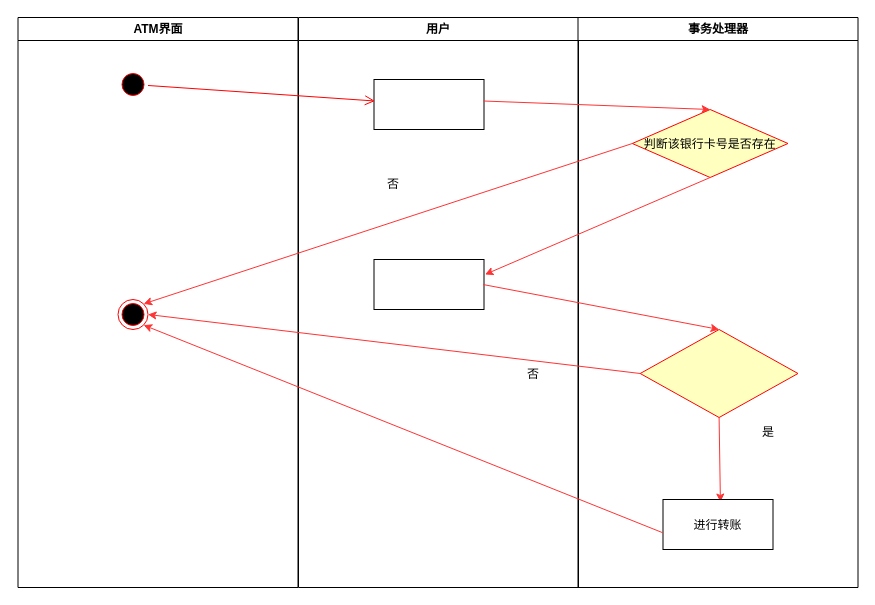
Image size: 875x605. Some labels were removed from this diagram. Here are the shapes that lost their labels. From the top down, the centre of each, then its label:
At [428,104]: "选择转账选项， 输入转账卡号".
At [428,284]: "输入转账金额".
At [718,373]: "判断该用户账户余额 是否大于等于转账金额".
